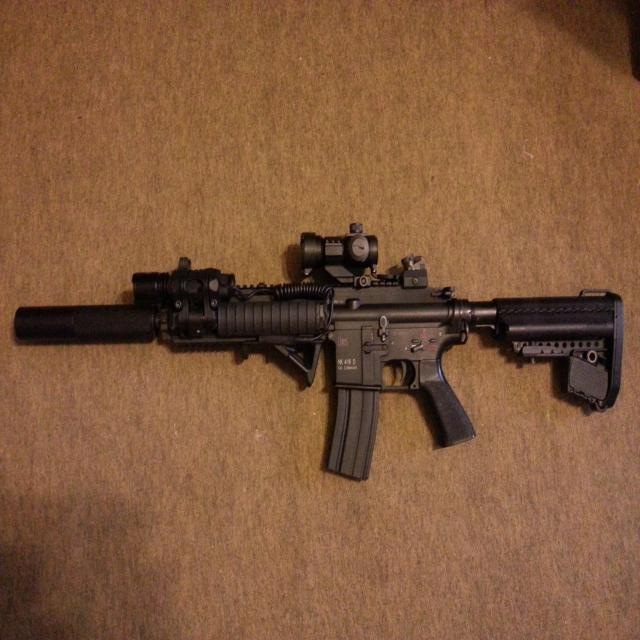firearm: (13, 221, 626, 485)
